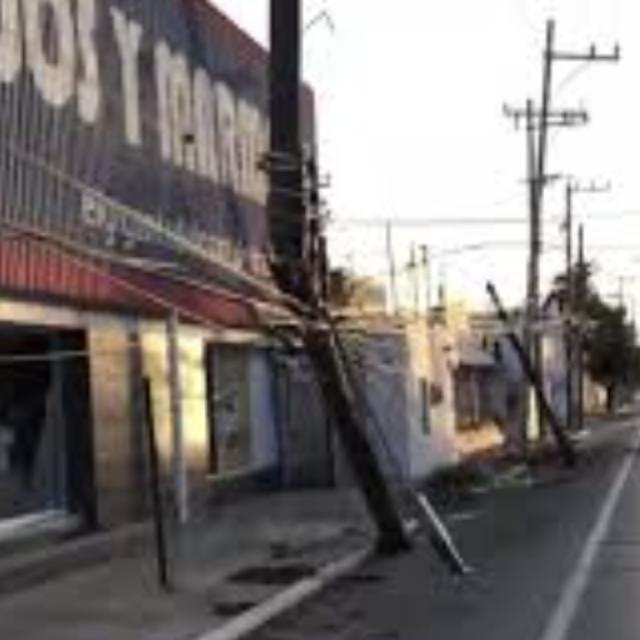Inclined Pole: (255, 0, 414, 559)
